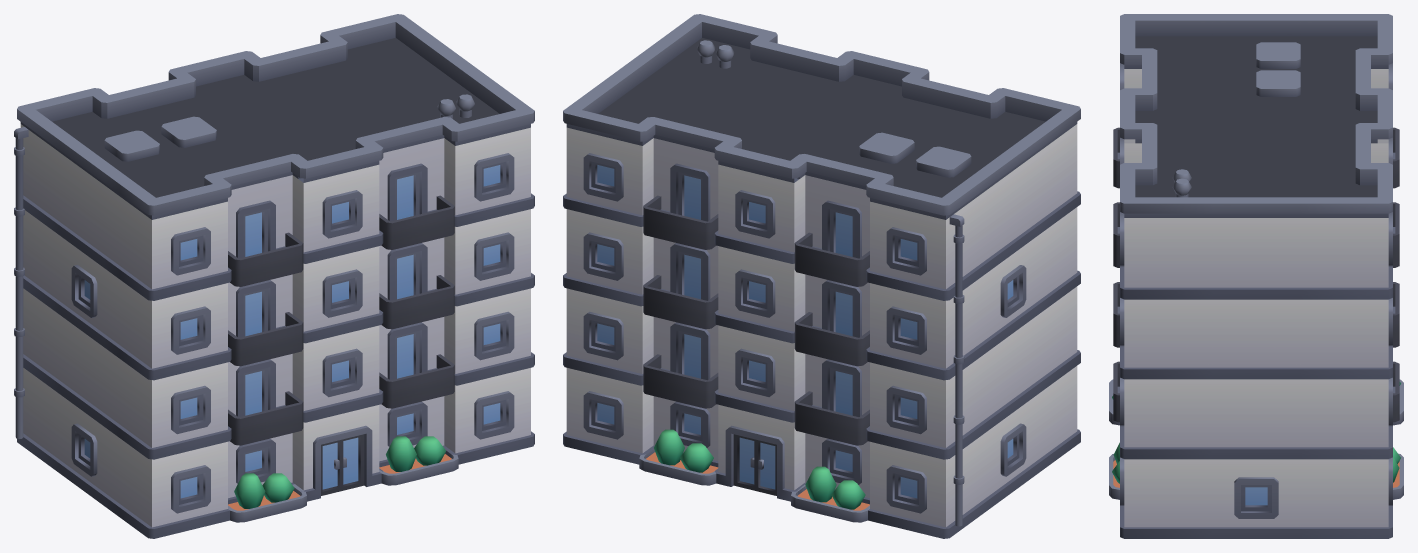
File: building-j.glb
The picture shows the model from 3 angles, left to right: view 1: azimuth 30°, elevation 25°; view 2: azimuth 150°, elevation 25°; view 3: azimuth 270°, elevation 25°; orthographic projection.
Parts seen in each view (by area): view 1: building-j; view 2: building-j; view 3: building-j.
Boxes of the visible parts, <box> form: building-j: <box>14,14,534,538</box>; building-j: <box>563,14,1080,538</box>; building-j: <box>1109,14,1403,538</box>.
Bounding box in the file's own units: 2.08 × 1.69 × 1.34.
1 material, 1 textured.
